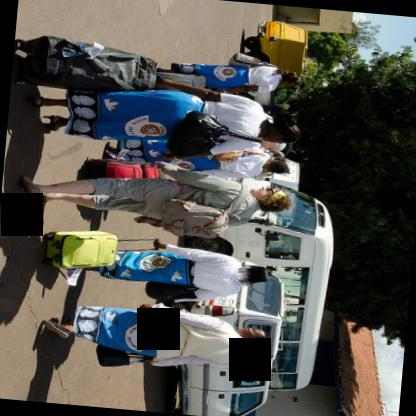backpack: (160, 197, 229, 238)
handbag: (166, 110, 262, 157), (94, 345, 151, 367), (144, 281, 197, 301), (227, 52, 275, 68), (215, 150, 264, 163)
suitcase: (10, 35, 162, 91), (40, 229, 158, 271), (85, 158, 159, 179), (157, 71, 204, 87)
